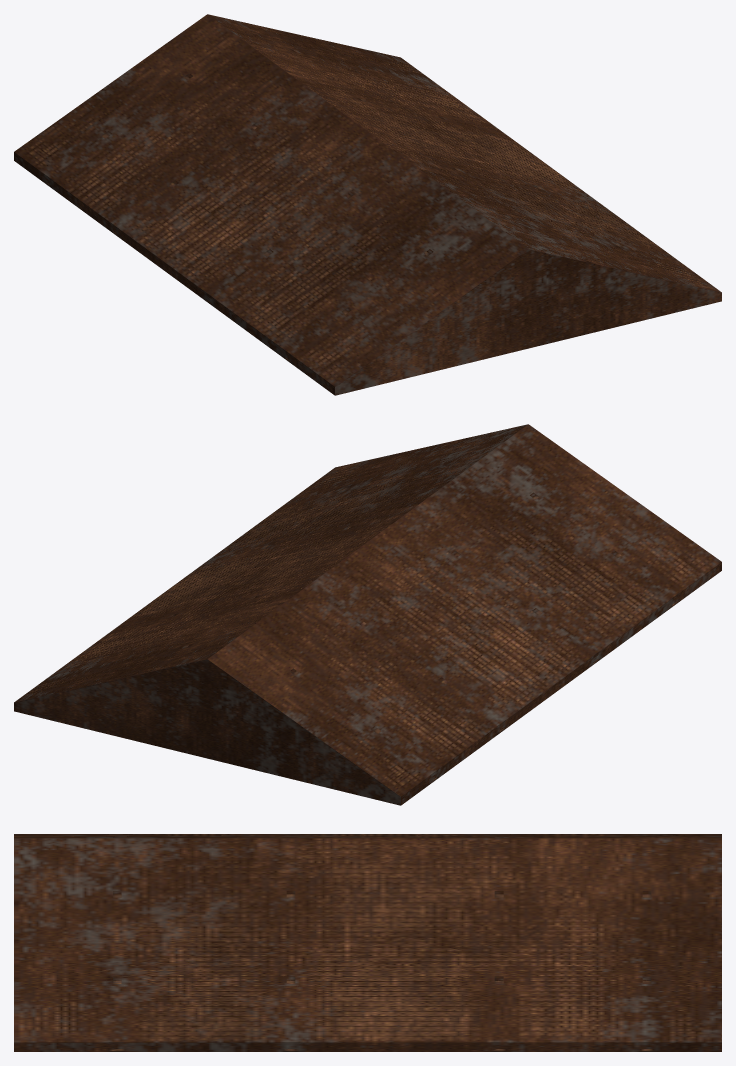
Rendered from Teto_Bar.fbx.
3 renders of one model, top to bottom at view 1: azimuth 30°, elevation 25°; view 2: azimuth 150°, elevation 25°; view 3: azimuth 270°, elevation 25°, orthographic. The views are drawn at different scales.
Parts seen in each view (by area): view 1: Teto; view 2: Teto; view 3: Teto.
Boxes of the visible parts, x1,y1,x2,y2 form: Teto: (14,14,721,395); Teto: (14,424,721,805); Teto: (14,834,721,1051).
Bounding box in the file's own units: 1600 × 393 × 2300.
